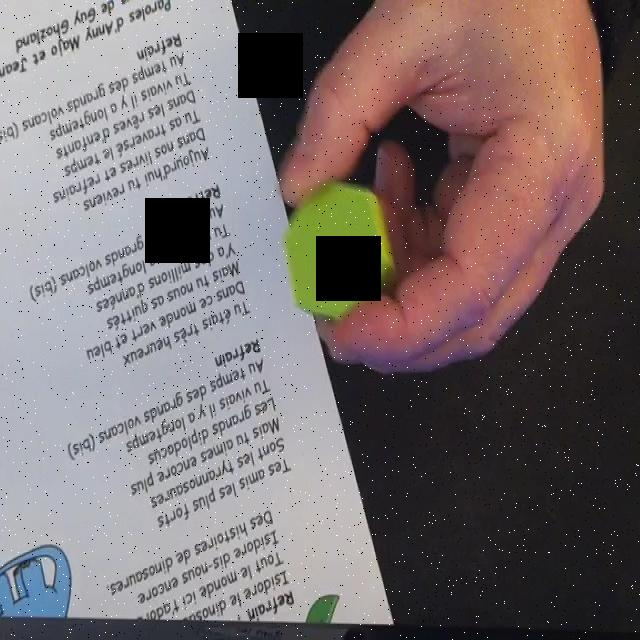hexagon: (288, 185, 390, 321)
